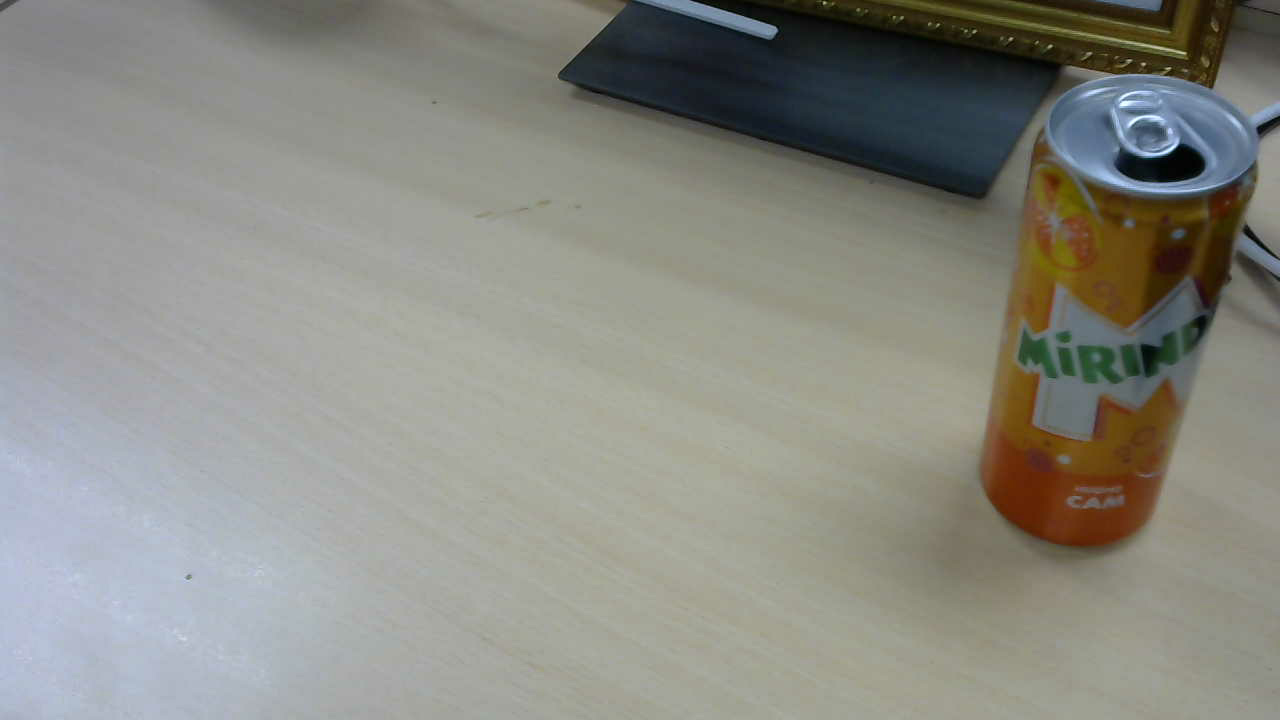Mirinda: (983, 79, 1264, 551)
